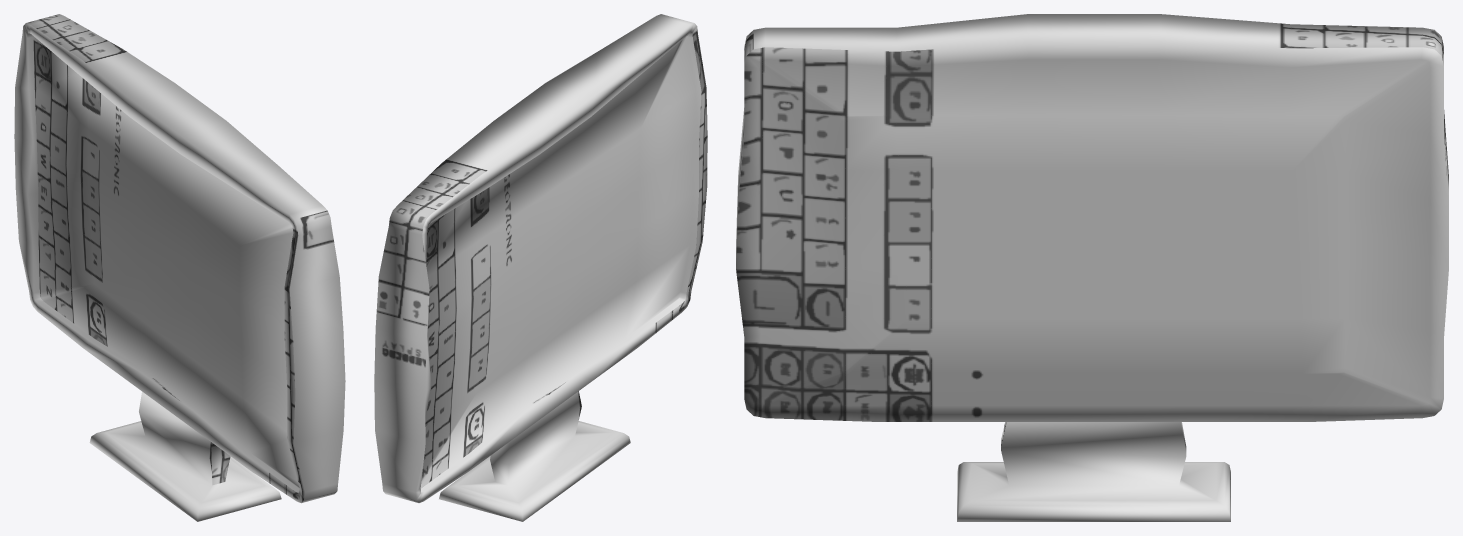
File: Monitor.FBX
The picture shows the model from 3 angles, left to right: view 1: azimuth 30°, elevation 25°; view 2: azimuth 150°, elevation 25°; view 3: azimuth 270°, elevation 25°; orthographic projection. The views are drawn at different scales.
Visible parts, largest first — view 1: Computer; view 2: Computer; view 3: Computer.
Boxes of the visible parts, x1,y1,x2,y2 form: Computer: [14, 14, 345, 521]; Computer: [374, 14, 707, 521]; Computer: [736, 14, 1448, 521].
Size of the model in its own units: 3.79 by 15.78 by 21.92.
